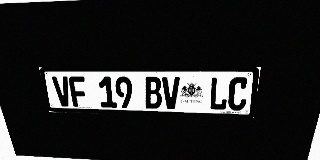1: (97, 76, 117, 108)
9: (114, 77, 134, 108)
B: (144, 77, 162, 109)
C: (227, 77, 249, 111)
F: (68, 76, 89, 107)
L: (208, 77, 229, 110)
V: (52, 76, 73, 107), (162, 77, 180, 109)
